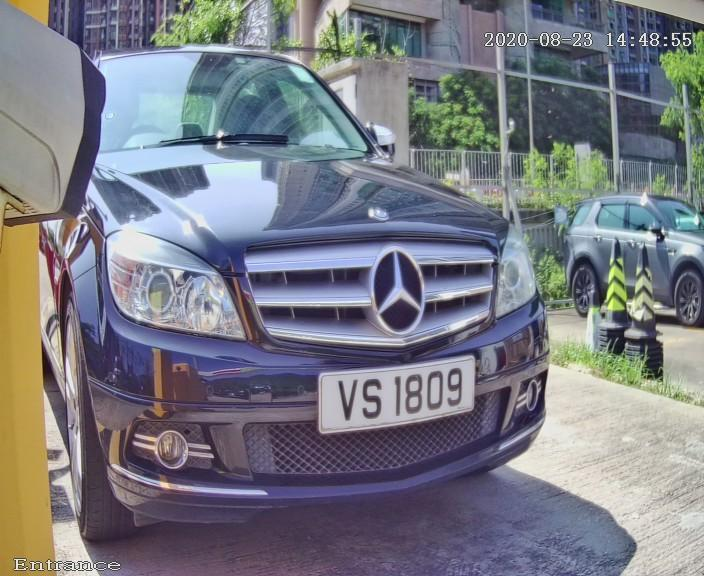Car: (26, 16, 588, 559)
License Plate: (296, 336, 511, 456)
